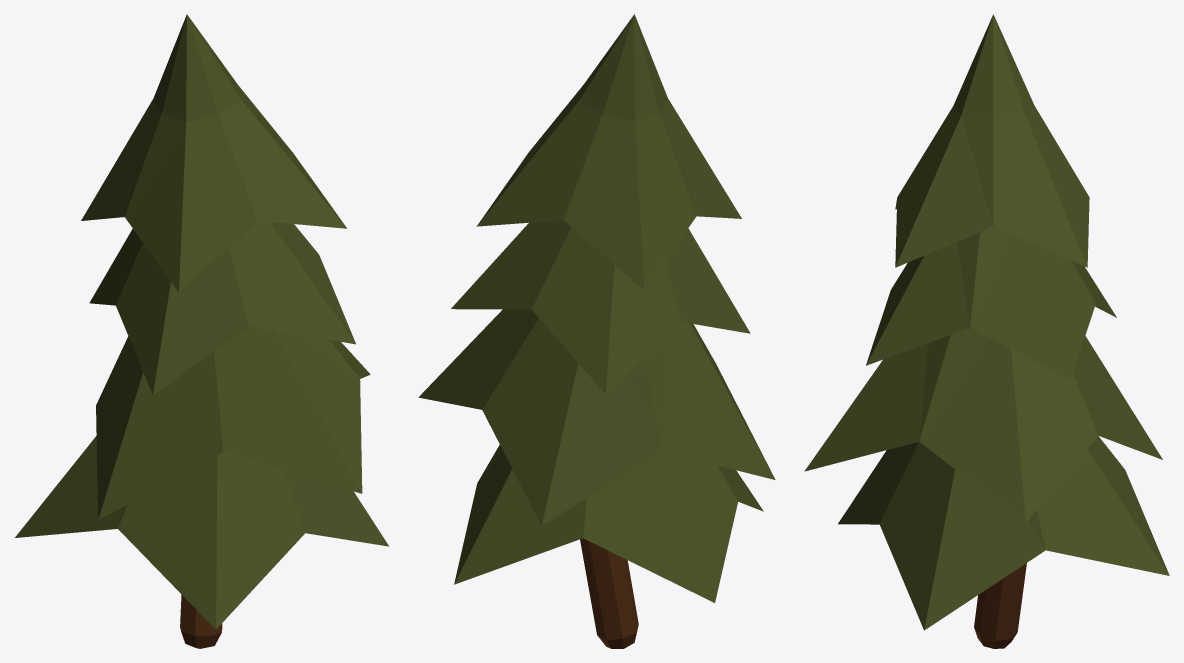
Rendered from tree1.fbx.
3 views of the same model, side by side, from view 1: azimuth 30°, elevation 25°; view 2: azimuth 150°, elevation 25°; view 3: azimuth 270°, elevation 25° (orthographic). The views are drawn at different scales.
Visible parts, largest first — view 1: Cube.004, Cube.001; view 2: Cube.004, Cube.001; view 3: Cube.004, Cube.001.
Boxes of the visible parts, <box> form: Cube.004: <box>15,14,388,629</box>; Cube.001: <box>180,594,222,648</box>; Cube.004: <box>418,14,775,602</box>; Cube.001: <box>580,538,638,648</box>; Cube.004: <box>804,14,1169,630</box>; Cube.001: <box>974,563,1026,648</box>.
Size of the model in its own units: 385 by 718 by 380.
